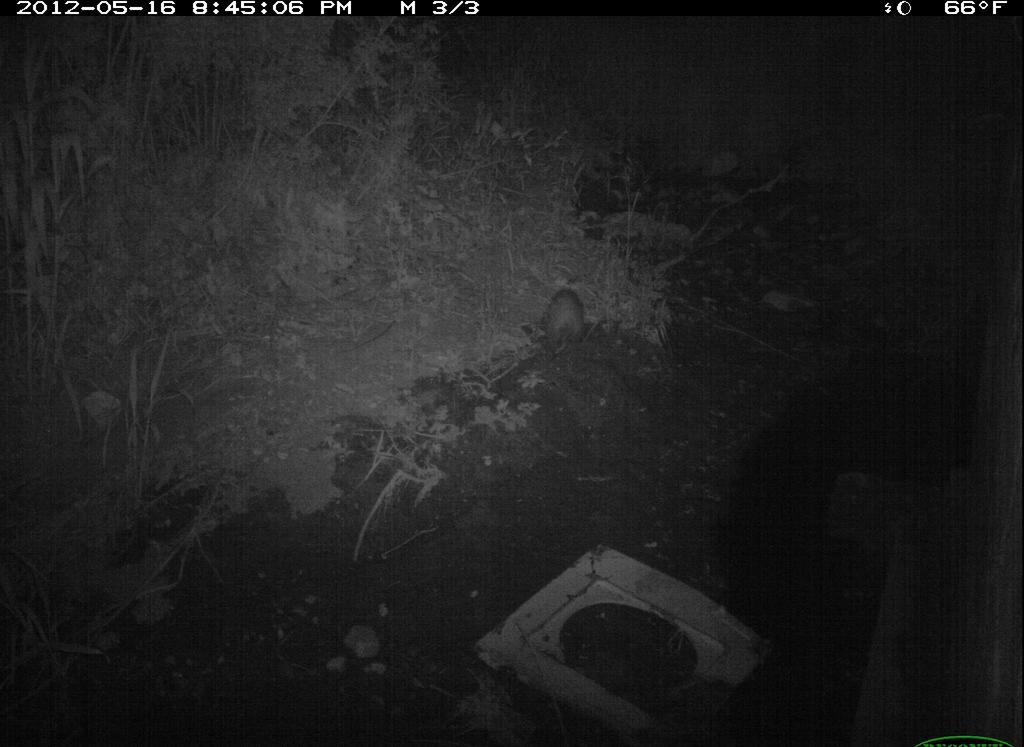opossum: (534, 286, 602, 374)
